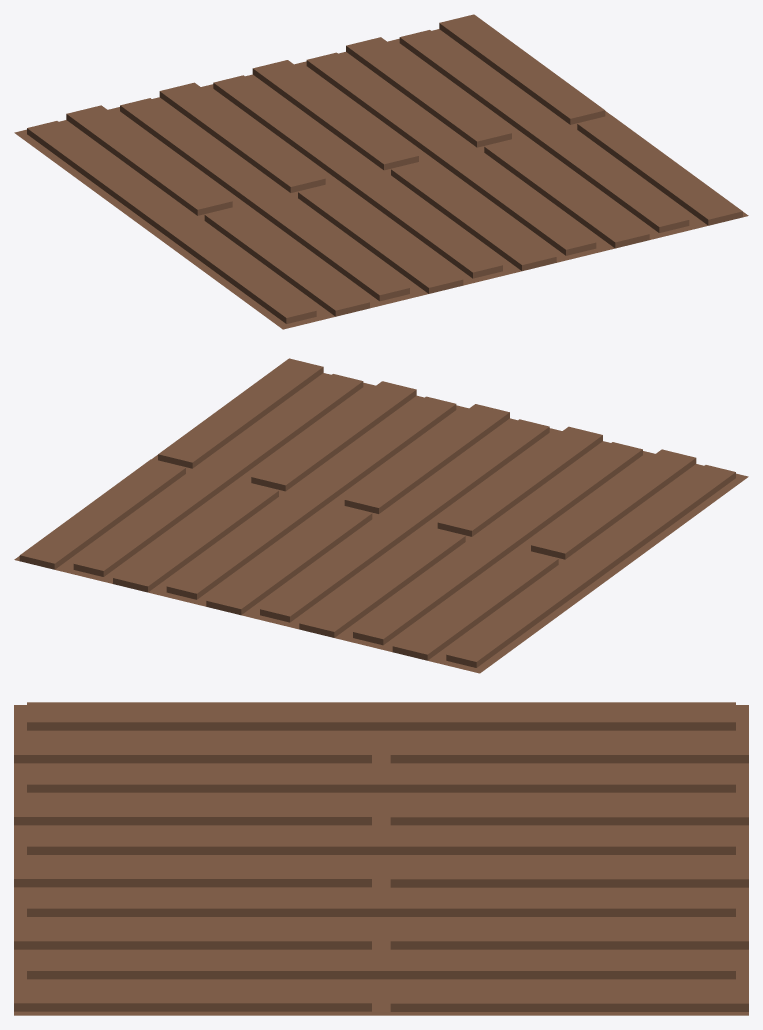
The model's file is floor.fbx.
3 views of the same model, one above another, from view 1: azimuth 30°, elevation 25°; view 2: azimuth 150°, elevation 25°; view 3: azimuth 270°, elevation 25° (orthographic). The views are drawn at different scales.
Parts seen in each view (by area): view 1: Plane.001; view 2: Plane.001; view 3: Plane.001.
Boxes of the visible parts, x1,y1,x2,y2 form: Plane.001: (14, 14, 748, 329); Plane.001: (14, 358, 748, 673); Plane.001: (14, 702, 748, 1015).
Bounding box in the file's own units: 200 × 2.5 × 200.
